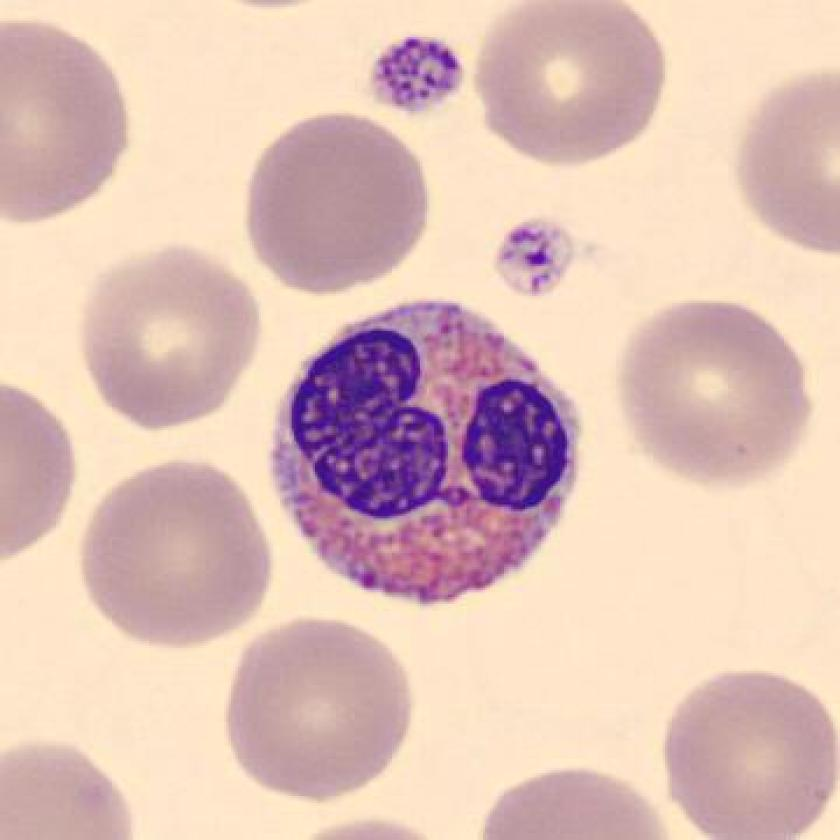eosinophil: (262, 288, 594, 619)
